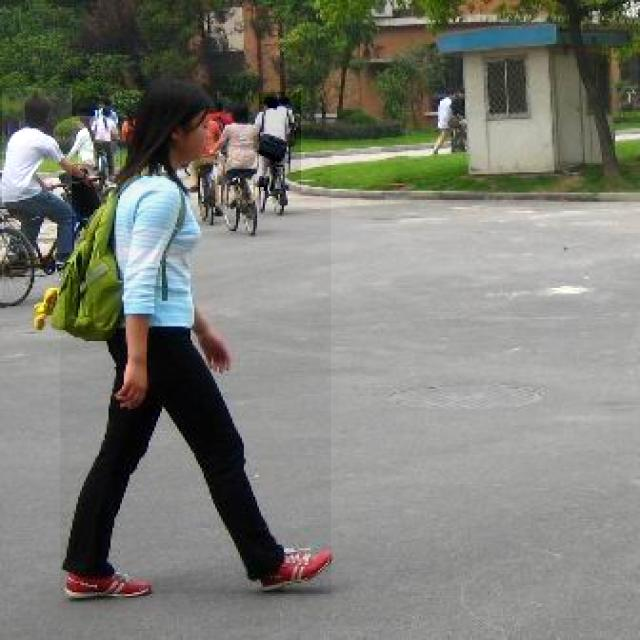with scooter: (60, 76, 331, 594), (2, 88, 72, 253), (219, 93, 264, 205), (260, 92, 302, 191), (430, 91, 464, 164), (95, 110, 126, 166), (72, 116, 97, 164)
